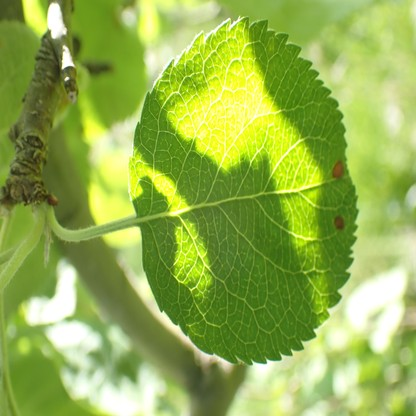frogeye_leaf_spot: (333, 160, 343, 177), (335, 216, 345, 229)
